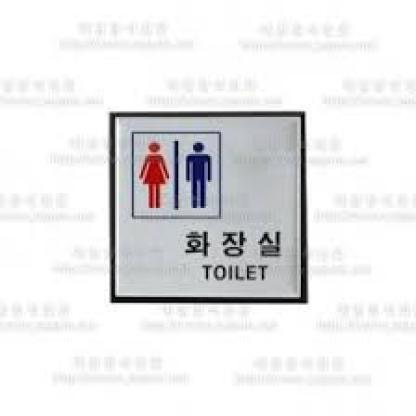toilet: (141, 137, 214, 211)
